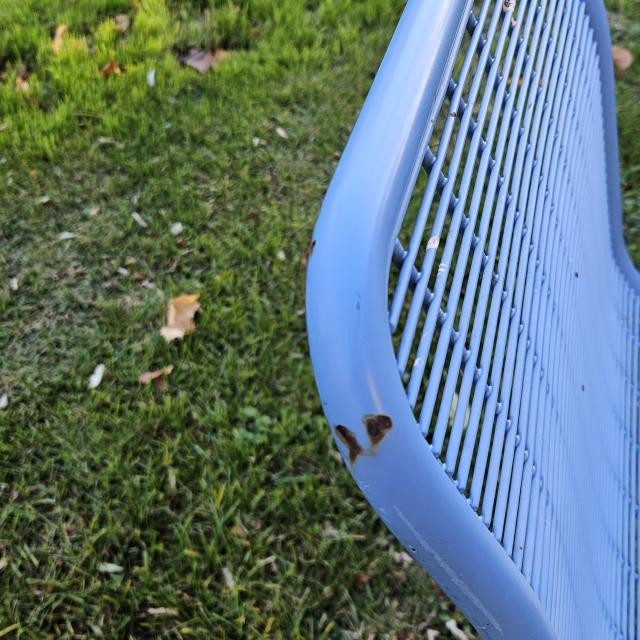Filiform Corrosion: (363, 414, 394, 450), (351, 449, 366, 462), (337, 427, 345, 437), (344, 439, 352, 448)
